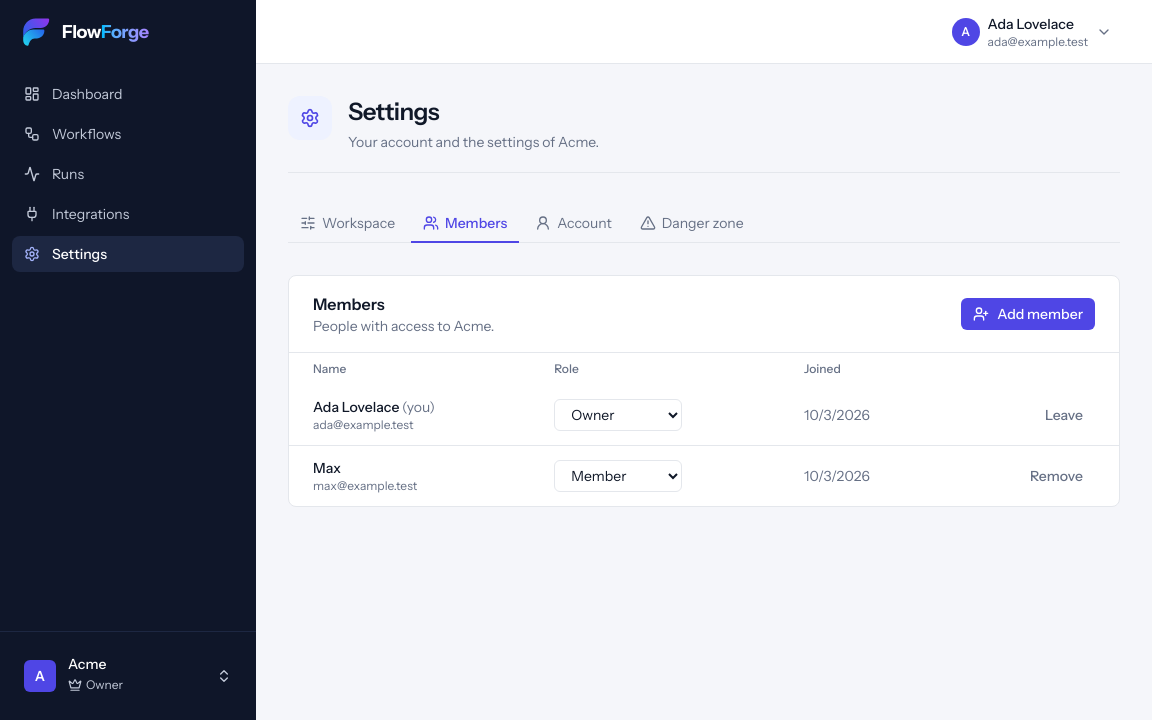
Test: members and roles (Part 03, AC-03.3) › changes a role and shows the last-owner error from the backend
The width and height of the screenshot is (1152, 720).
Select "Admin" in the dropdown named "Role of Max" at (618, 476), box [554,460,682,492]
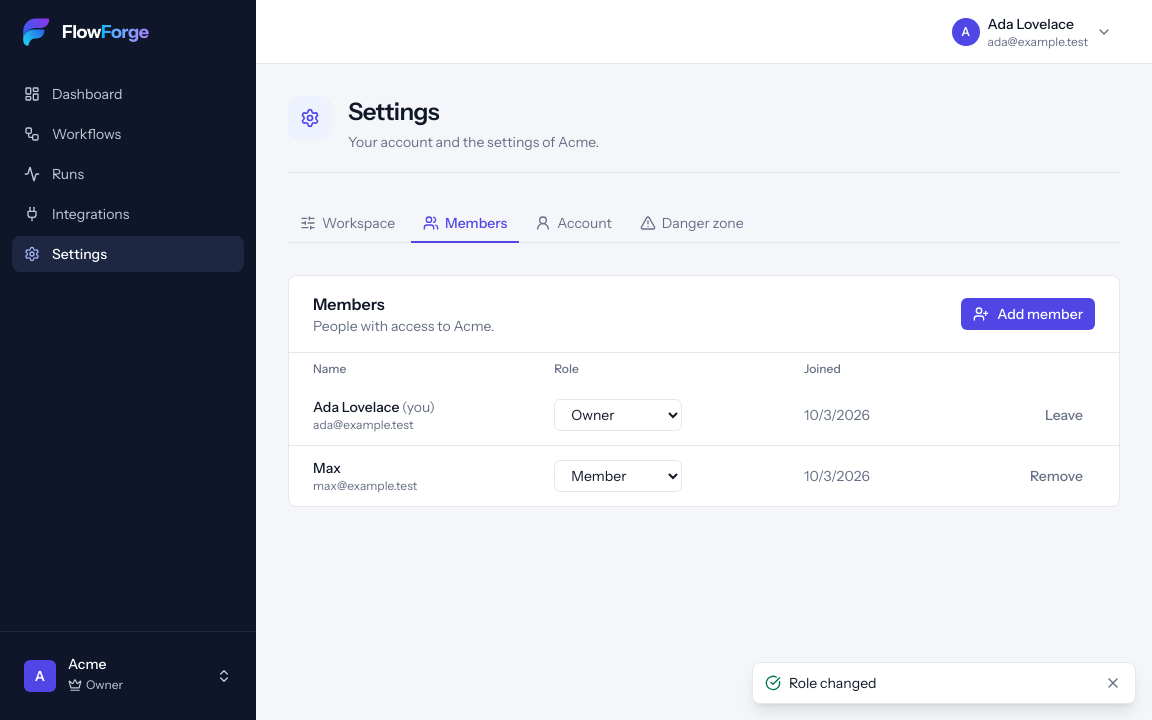
Select "Member" in the dropdown named "Role of Ada Lovelace" at (618, 415), box [554,399,682,431]
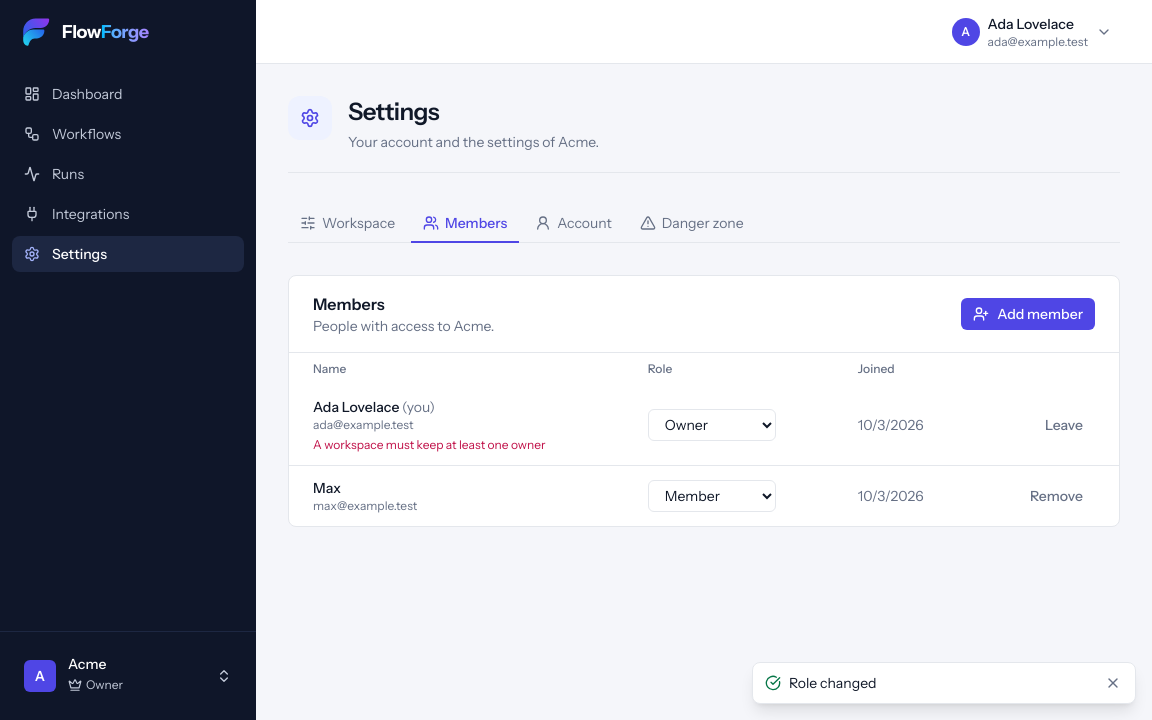
Result: the text "A workspace must keep at least one owner" is shown at [313,437,546,452]
